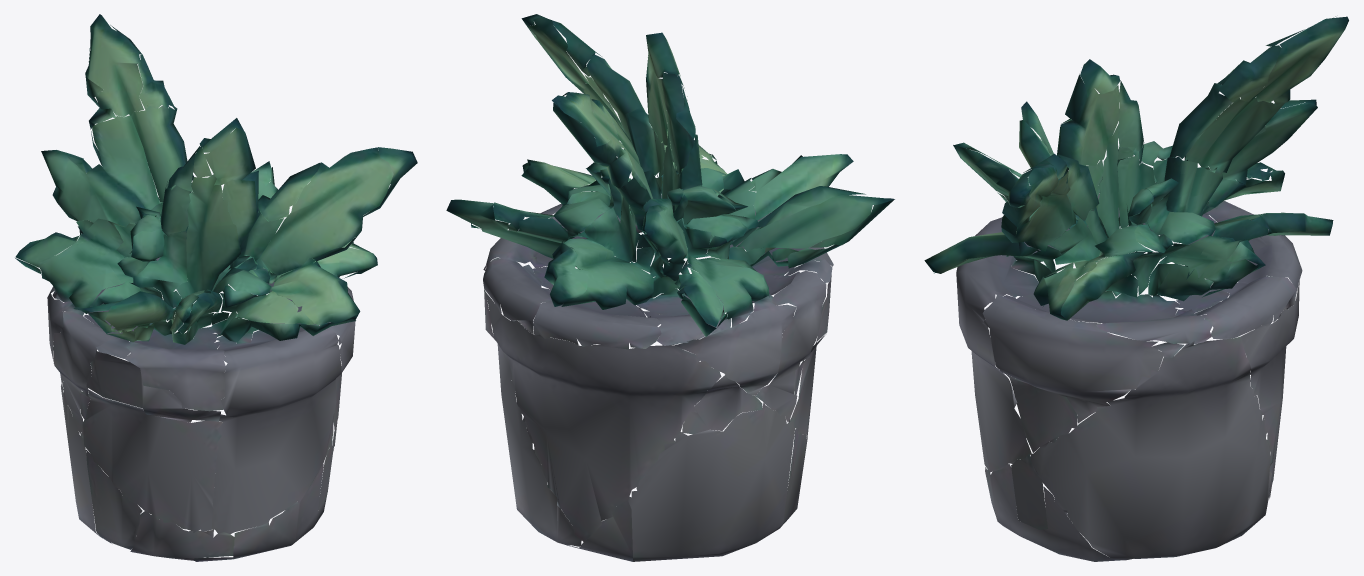
Rendered from green13.glb.
The picture shows the model from 3 angles, left to right: view 1: azimuth 30°, elevation 25°; view 2: azimuth 150°, elevation 25°; view 3: azimuth 270°, elevation 25°; orthographic projection. The views are drawn at different scales.
Visible parts, largest first — view 1: tripo_node_0f474470-65f5-4d7b-be99-4686244675fa; view 2: tripo_node_0f474470-65f5-4d7b-be99-4686244675fa; view 3: tripo_node_0f474470-65f5-4d7b-be99-4686244675fa.
Boxes of the visible parts, x1,y1,x2,y2 form: tripo_node_0f474470-65f5-4d7b-be99-4686244675fa: (15, 14, 417, 561); tripo_node_0f474470-65f5-4d7b-be99-4686244675fa: (446, 14, 894, 561); tripo_node_0f474470-65f5-4d7b-be99-4686244675fa: (924, 16, 1348, 561).
Size of the model in its own units: 0.7985 by 1 by 0.7864.
Materials: 1 (1 with a texture image).
